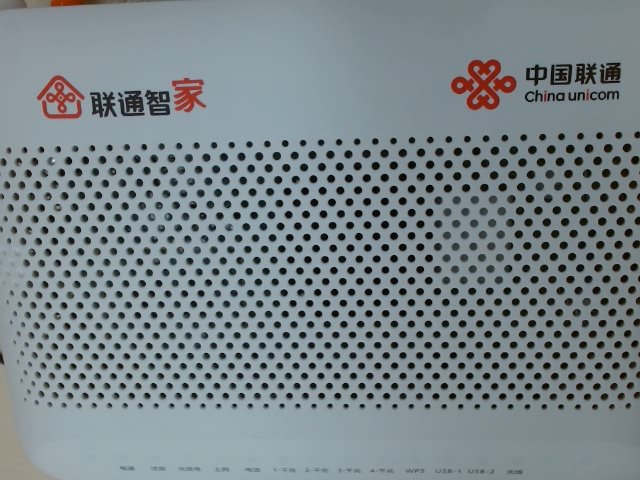AD_ChinaUnicom: (443, 33, 639, 118)
